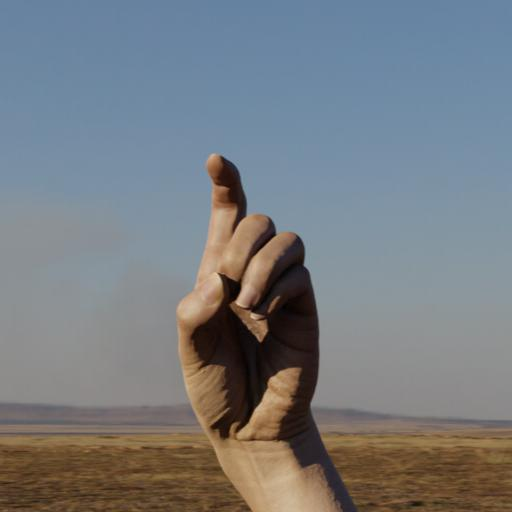X: (162, 144, 332, 460)
